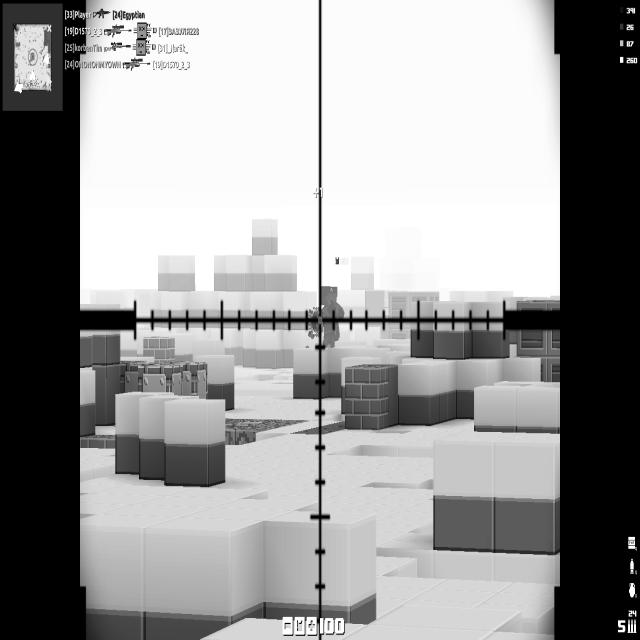Head: (319, 284, 338, 309)
Player: (313, 280, 346, 346)
